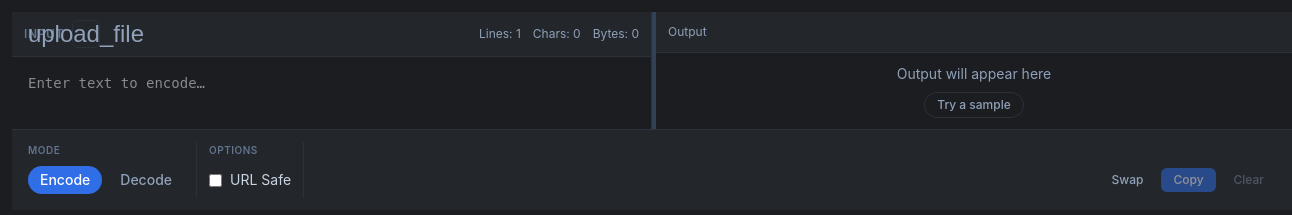
Test case: Base64Tool › error state — invalid base64 in Decode mode shows error in red
Click the button with aria-label "decode mode". click: (146, 180)
box: top-left (108, 166), bottom-right (184, 194)
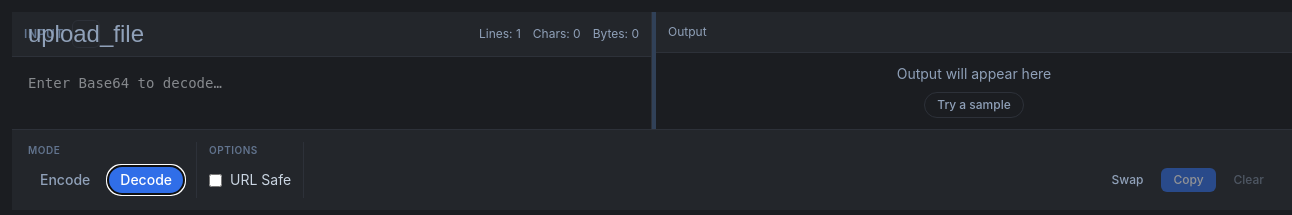
Type "not-valid-base64!!!" into the text box named "base64 input text". click: (332, 93)
box: top-left (12, 57), bottom-right (651, 129)
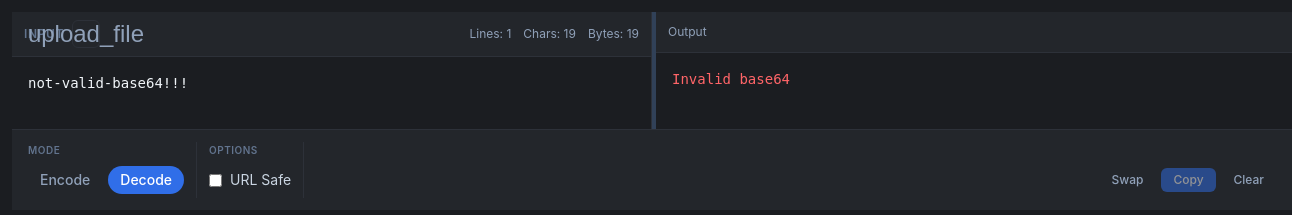
Expected: the text named "base64 output" reads "Invalid base64", top-left (672, 71), bottom-right (790, 87)
